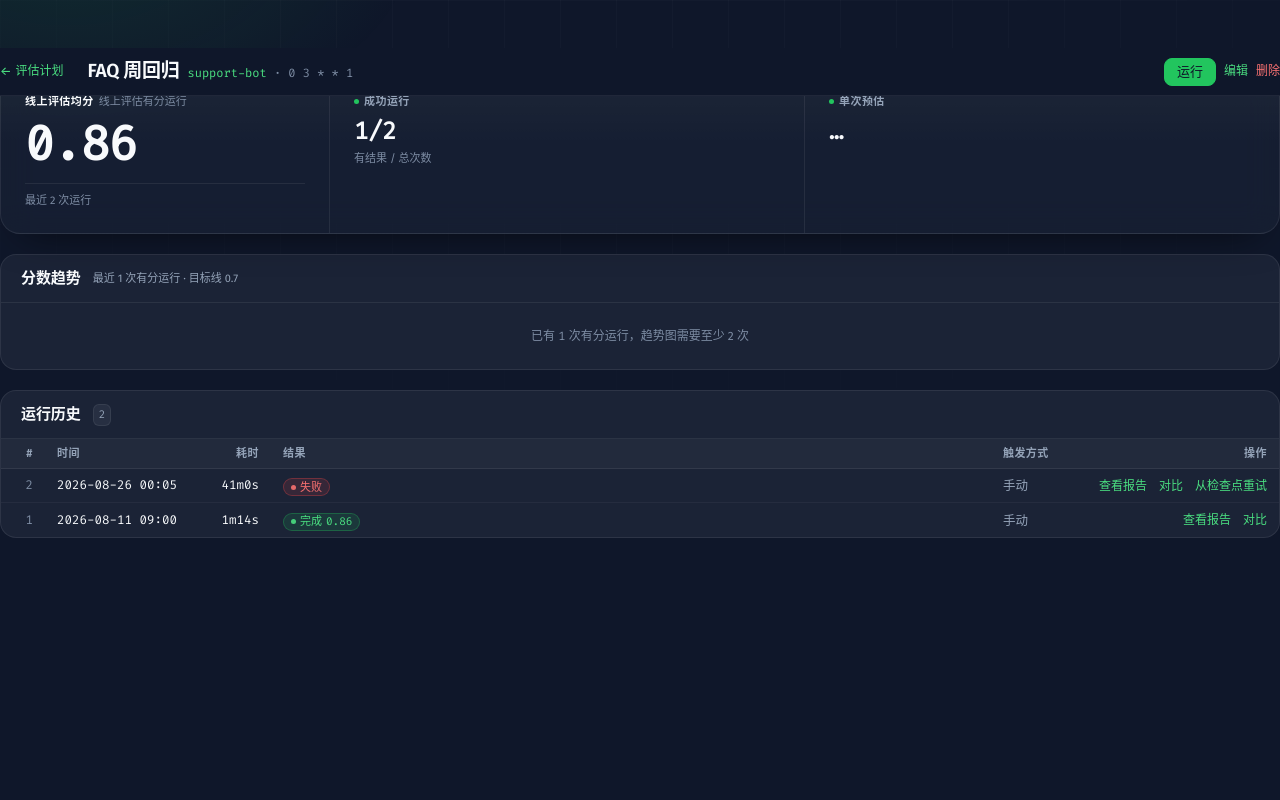
Test: 交付 6：确认卡必须说清要再花多少钱 › 危险动作纪律（UI-004）：默认焦点落「取消」，且没点确认前不发任何请求
This screenshot has width=1280, height=800.
Click the button "从检查点重试" at (1231, 486), box [1195,478,1267,494]
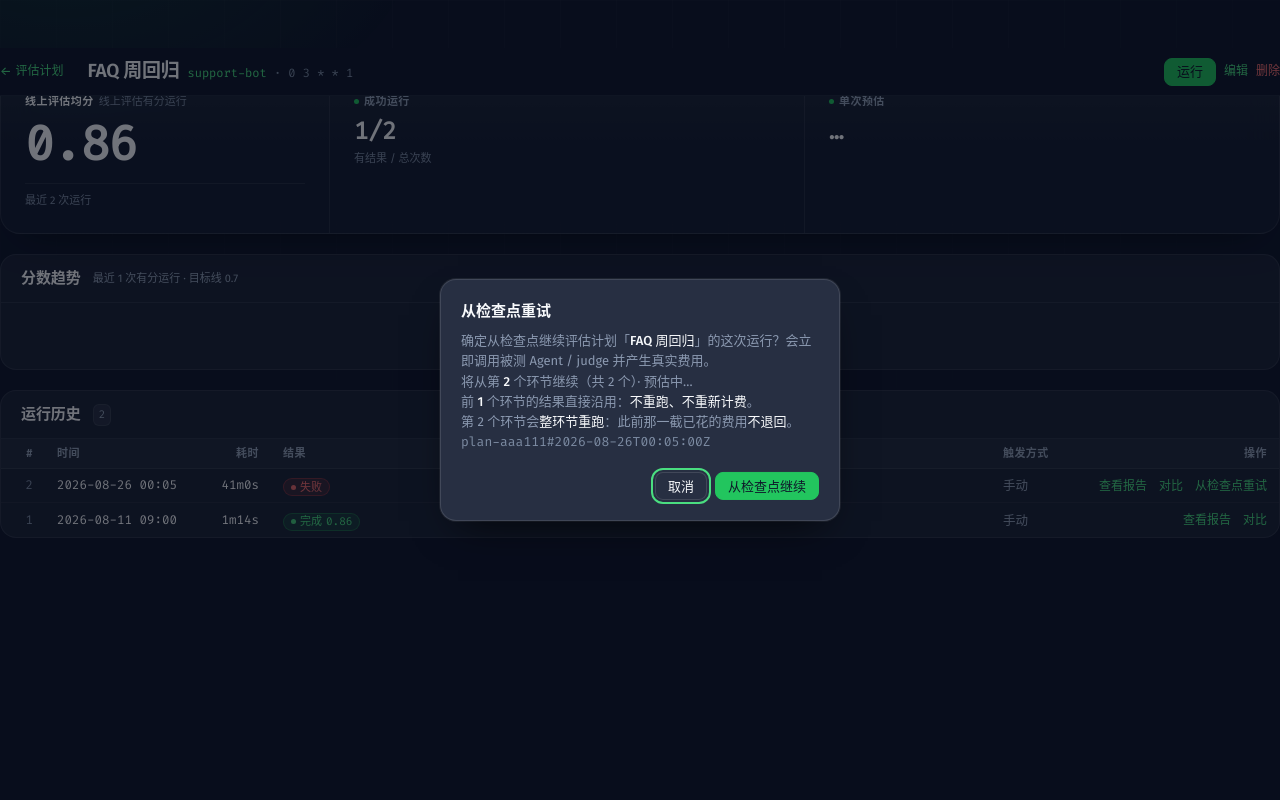
Click the button with test id "confirm-card-cancel" at (681, 486), box [655,472,707,500]
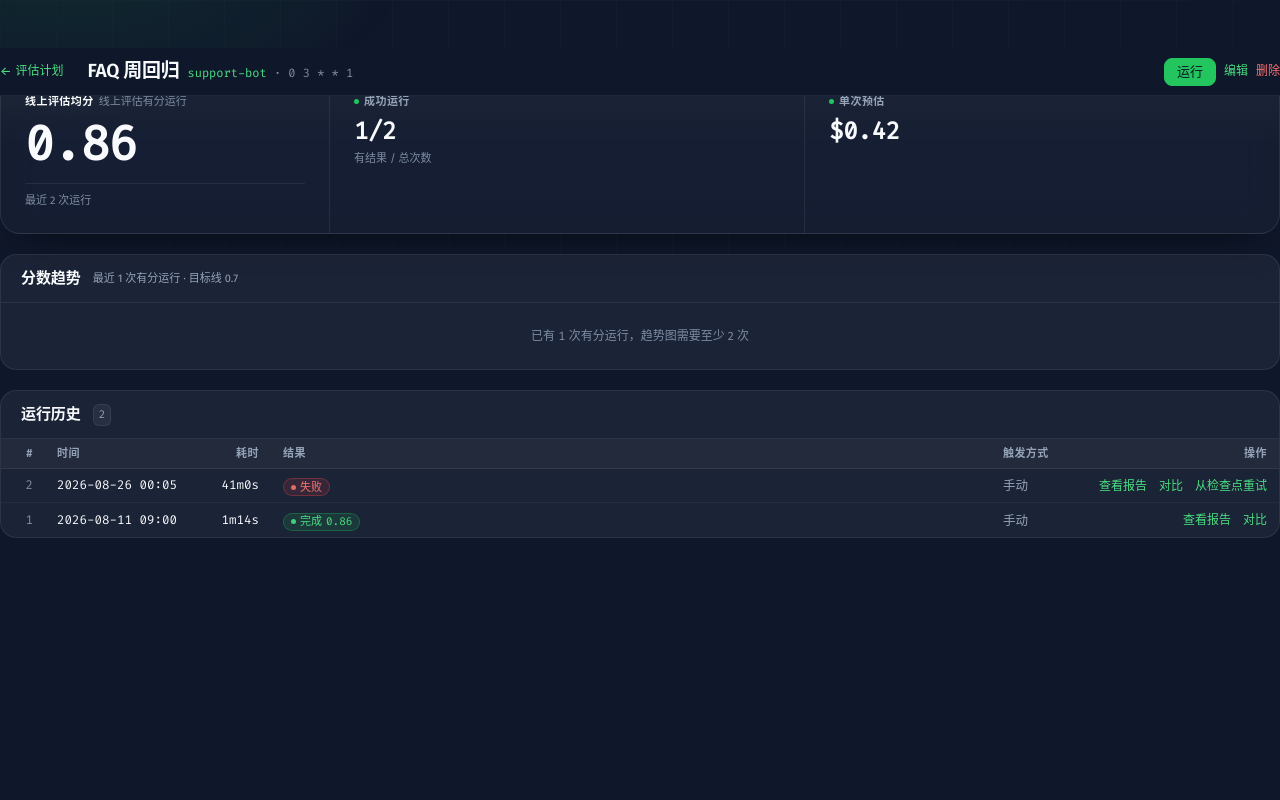
Now the dialog with test id "confirm-card" is gone
